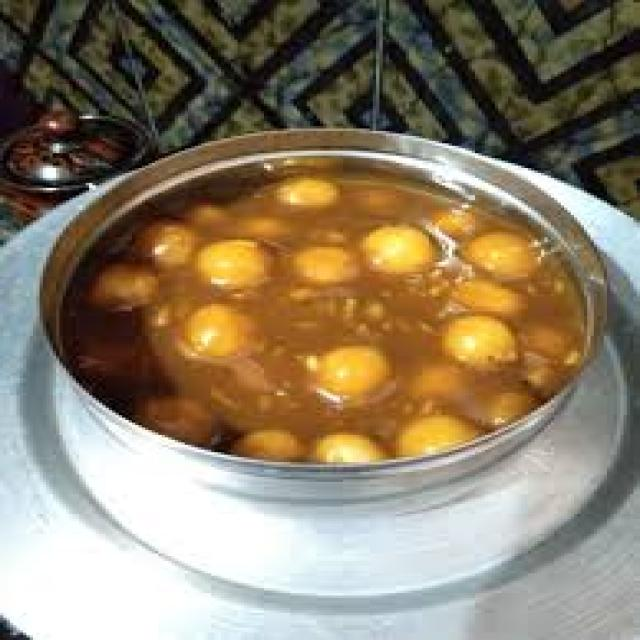paal kolukattai: (46, 139, 618, 481)
